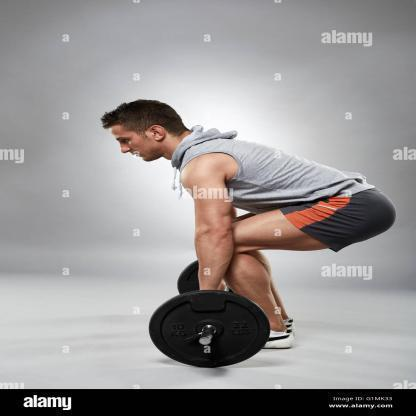barbell: (147, 255, 272, 370)
